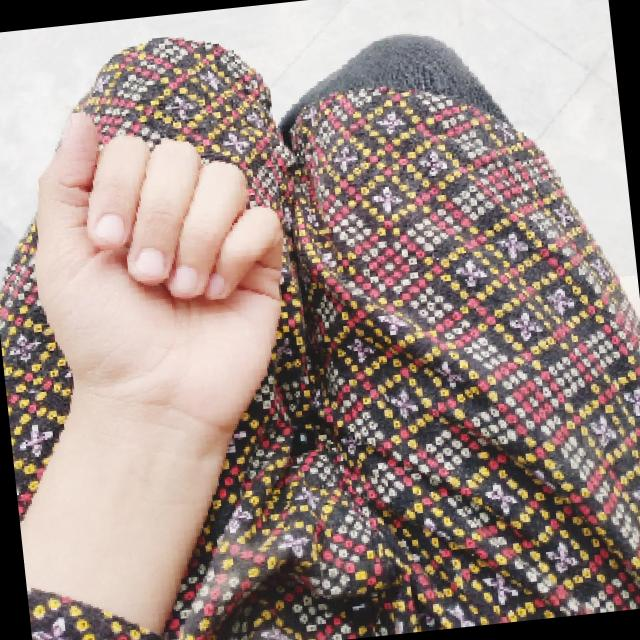Nail: (93, 212, 125, 245), (132, 247, 165, 278), (171, 264, 198, 296), (205, 272, 225, 299), (59, 115, 73, 147)
